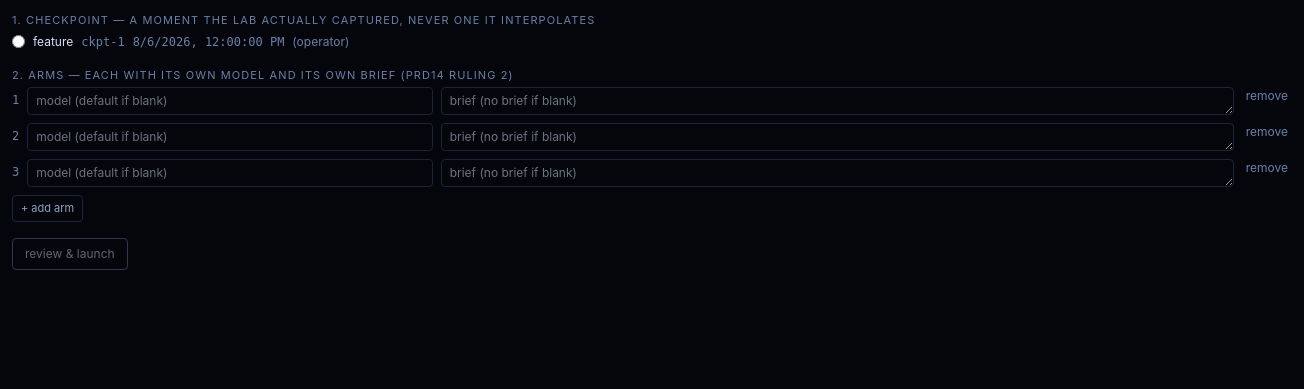
Scenario: LaunchPanel › says the rate cannot be established, honestly — never a fabricated or bare-zero number
The width and height of the screenshot is (1304, 389).
Click the radio button labelled "feature ckpt-1 8/6/2026, 12:00:00 PM (operator)" at x=18, y=42, box x1=12 y1=35 x2=25 y2=48
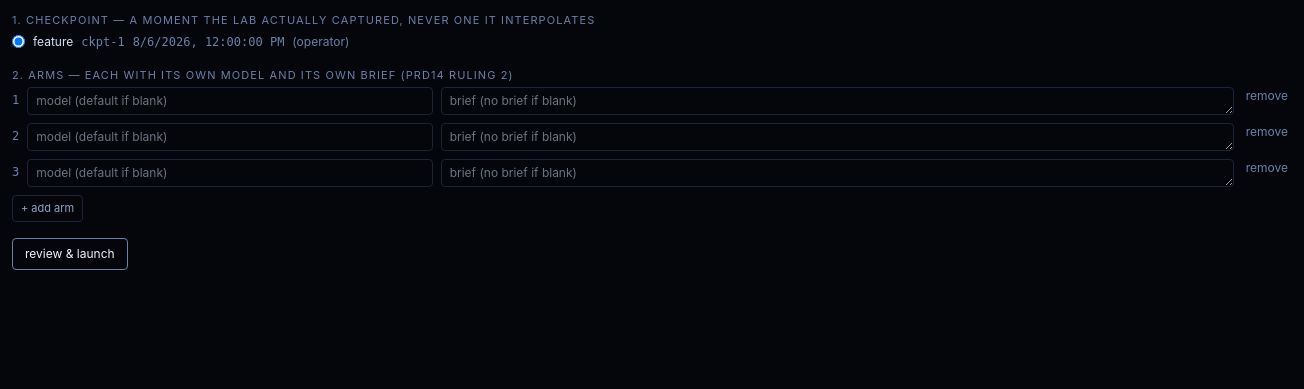
Click the button with test id "launch-review" at x=70, y=254, box x1=12 y1=238 x2=128 y2=270
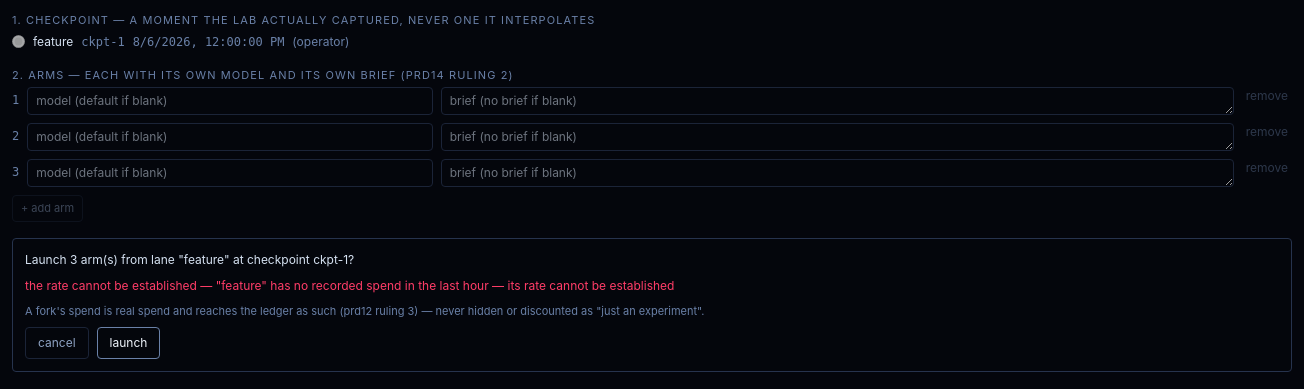
Result: the text with test id "launch-estimate-unavailable" is shown at x1=25 y1=278 x2=674 y2=292
Result: the text with test id "launch-estimate-unavailable" shows "cannot be established" at x1=25 y1=278 x2=216 y2=292
